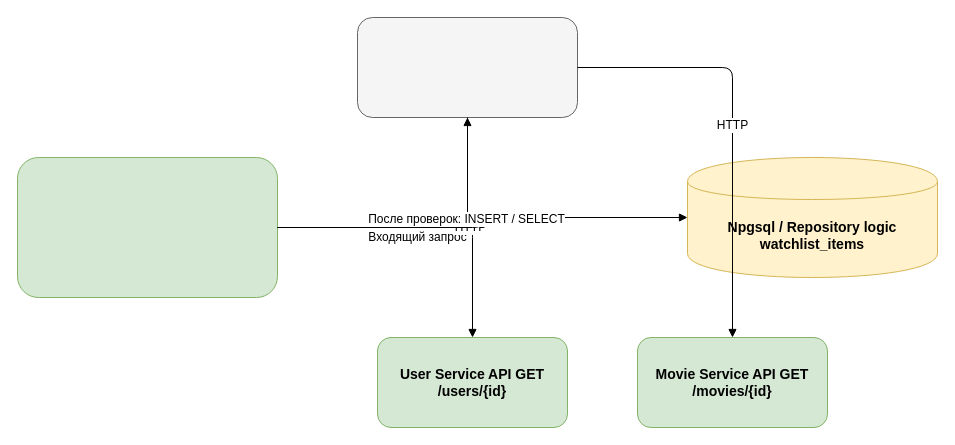
Image size: 955x445. Some labels were removed from this diagram. Here are the shapes that lost their labels. From the top down, the centre of each, then its label:
(x=467, y=67): HttpClient Users + Movies
(x=147, y=227): Watchlist API POST /watchlists/{id}/items GET /watchlists/{id}
